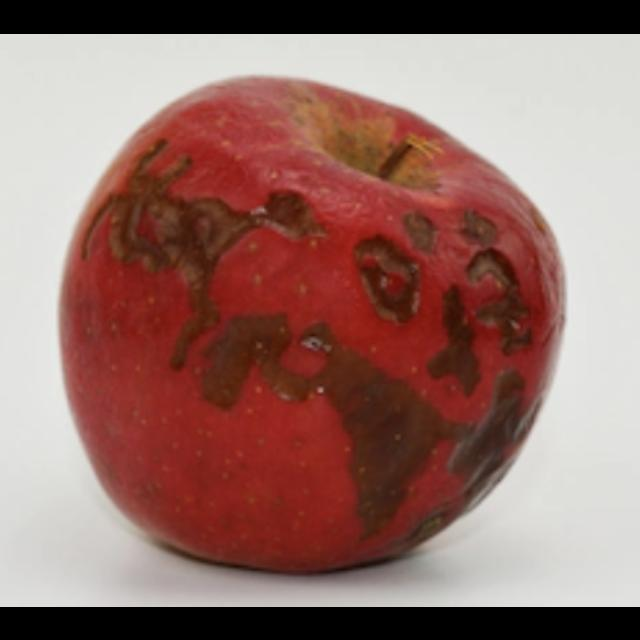Apel Tidak Segar: (24, 48, 588, 584)
